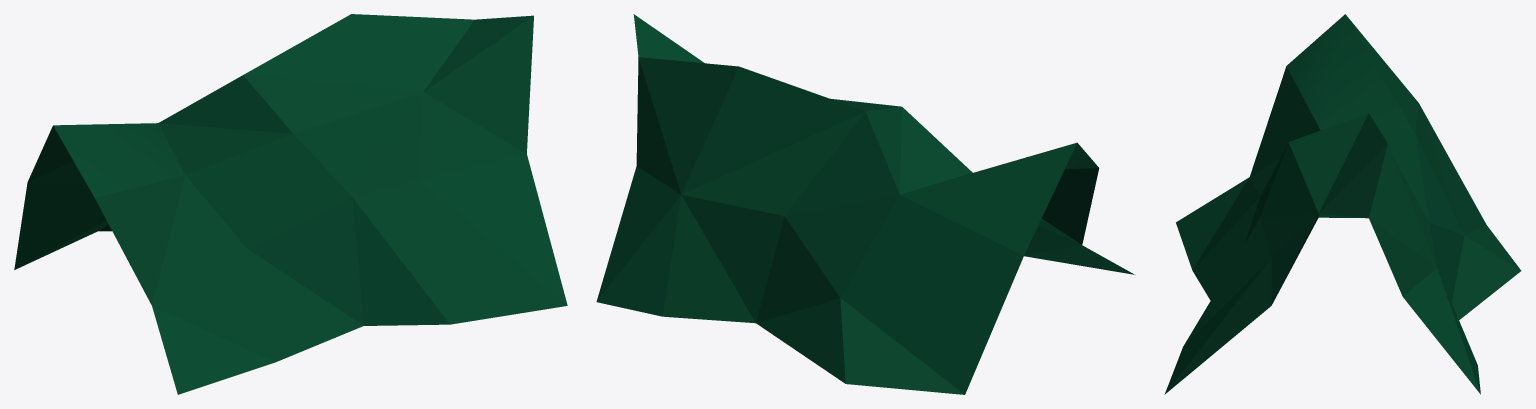
The model's file is mtBig_connectA.FBX.
3 renders of one model, left to right at view 1: azimuth 30°, elevation 25°; view 2: azimuth 150°, elevation 25°; view 3: azimuth 270°, elevation 25°, orthographic. The views are drawn at different scales.
Visible parts, largest first — view 1: mtBig_connectA; view 2: mtBig_connectA; view 3: mtBig_connectA.
Boxes of the visible parts, x1=… form: mtBig_connectA: x1=14, y1=14, x2=567, y2=394; mtBig_connectA: x1=596, y1=14, x2=1134, y2=394; mtBig_connectA: x1=1164, y1=14, x2=1521, y2=394.
Size of the model in its own units: 630 by 292 by 454.
